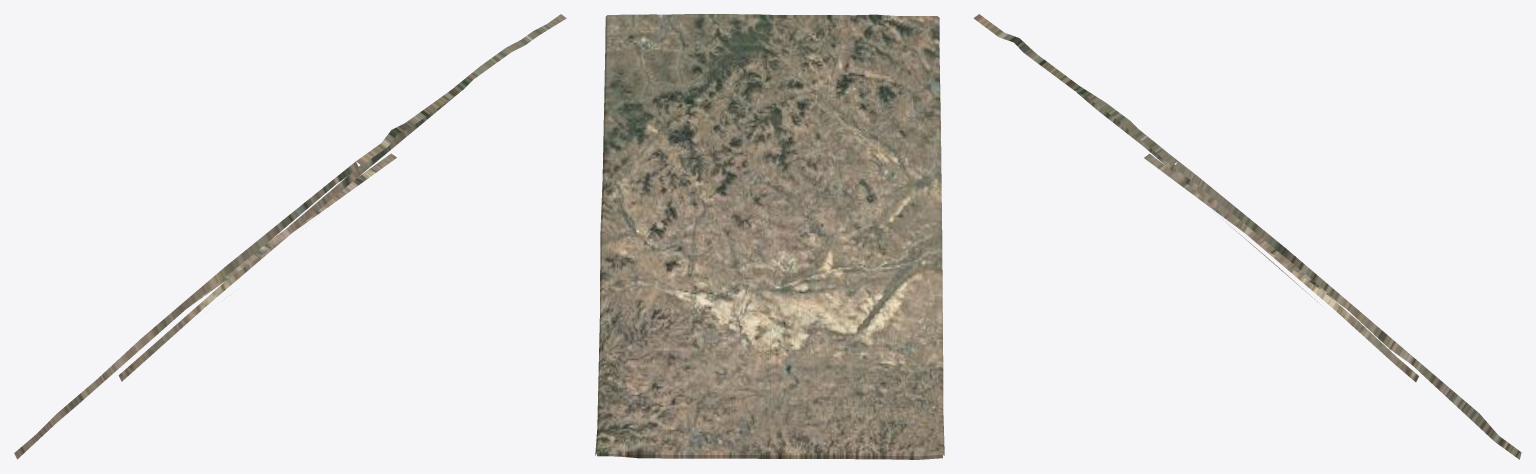
3 views of the same model, side by side, from view 1: azimuth 30°, elevation 25°; view 2: azimuth 150°, elevation 25°; view 3: azimuth 270°, elevation 25° (orthographic). The views are drawn at different scales.
Bounding box in the file's own units: 307612 × 232883 × 304304.
1 material, 1 textured.
